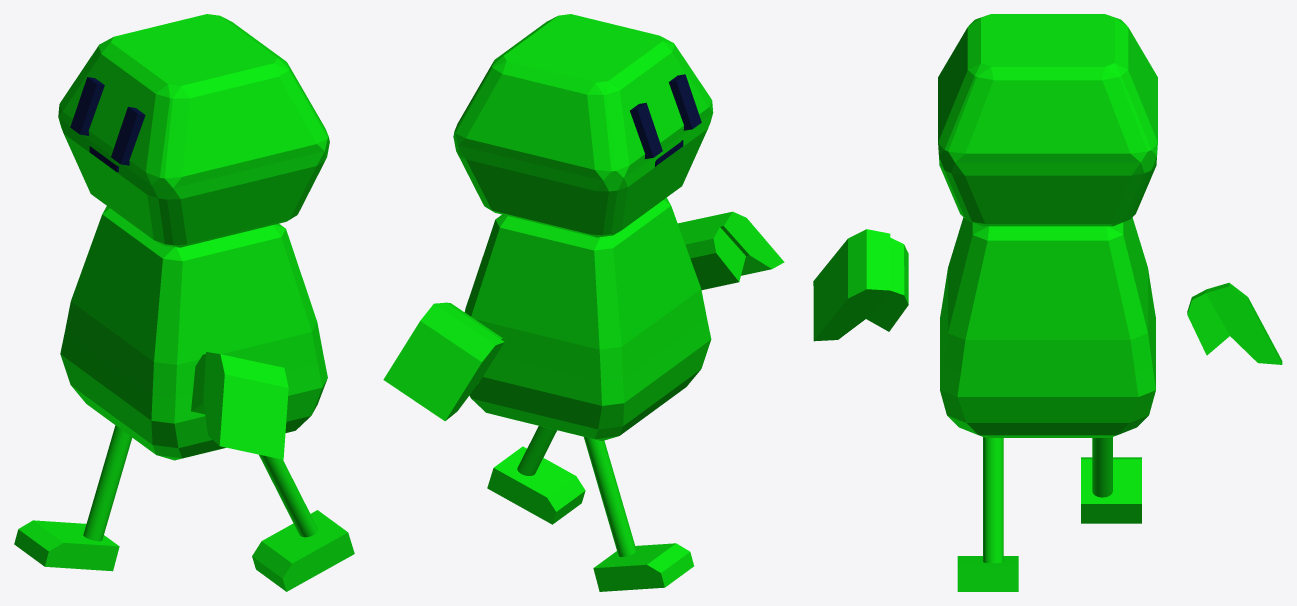
File: player_green_walk2.gltf
The picture shows the model from 3 angles, left to right: view 1: azimuth 30°, elevation 25°; view 2: azimuth 150°, elevation 25°; view 3: azimuth 270°, elevation 25°; orthographic projection. The views are drawn at different scales.
Parts seen in each view (by area): view 1: head.020, body.020, hand right.021, foot right.021, foot left.021, leg left.021, leg right.021, Cube.084, Cube.083; view 2: body.020, head.020, hand left.021, hand right.021, foot right.021, foot left.021, leg left.021, Cube.083, Cube.084, leg right.021; view 3: body.020, head.020, hand right.021, hand left.021, foot left.021, leg right.021, foot right.021, leg left.021.
Boxes of the visible parts, bbox=[...] form: head.020: bbox=[58, 14, 329, 247]; body.020: bbox=[60, 206, 327, 460]; hand right.021: bbox=[191, 352, 288, 459]; foot right.021: bbox=[252, 510, 354, 591]; foot left.021: bbox=[14, 520, 119, 571]; leg left.021: bbox=[83, 425, 132, 541]; leg right.021: bbox=[259, 454, 317, 537]; Cube.084: bbox=[70, 77, 104, 135]; Cube.083: bbox=[111, 107, 145, 165]; body.020: bbox=[464, 197, 711, 440]; head.020: bbox=[453, 14, 713, 237]; hand left.021: bbox=[383, 302, 504, 420]; hand right.021: bbox=[677, 211, 784, 289]; foot right.021: bbox=[487, 446, 585, 524]; foot left.021: bbox=[593, 543, 693, 591]; leg left.021: bbox=[584, 437, 636, 556]; Cube.083: bbox=[668, 74, 701, 130]; Cube.084: bbox=[630, 102, 662, 158]; leg right.021: bbox=[517, 426, 556, 475]; body.020: bbox=[940, 217, 1155, 437]; head.020: bbox=[938, 14, 1157, 226]; hand right.021: bbox=[813, 229, 908, 341]; hand left.021: bbox=[1187, 282, 1282, 364]; foot left.021: bbox=[1081, 457, 1141, 523]; leg right.021: bbox=[983, 437, 1003, 563]; foot right.021: bbox=[957, 556, 1018, 591]; leg left.021: bbox=[1092, 437, 1112, 497].
Size of the model in its own units: 2.4 by 4.8 by 3.95.
